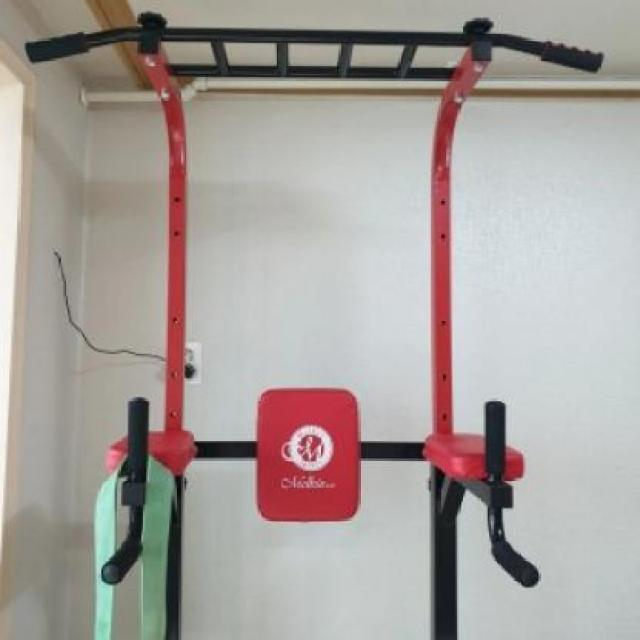chinning dipping: (26, 12, 605, 640)
